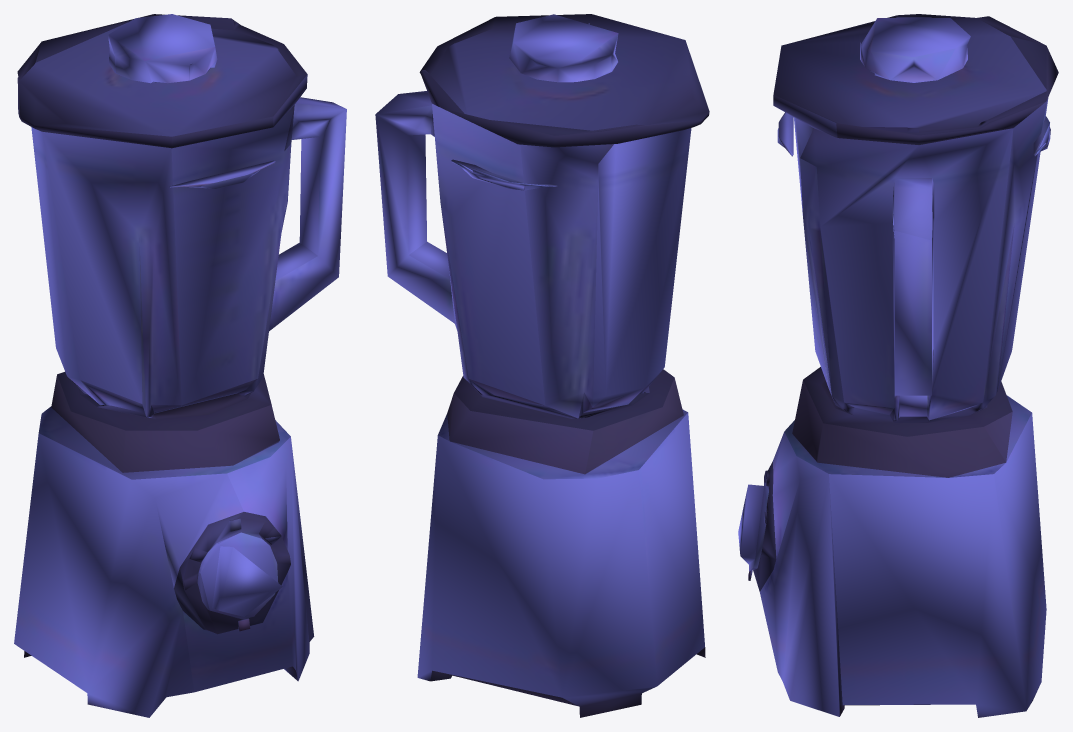
The model's file is model.progressive.glb.
The picture shows the model from 3 angles, left to right: view 1: azimuth 30°, elevation 25°; view 2: azimuth 150°, elevation 25°; view 3: azimuth 270°, elevation 25°; orthographic projection.
Visible parts, largest first — view 1: material; view 2: material; view 3: material.
Boxes of the visible parts, bbox=[...] form: material: bbox=[14, 14, 346, 717]; material: bbox=[375, 14, 709, 717]; material: bbox=[738, 14, 1058, 717].
Bounding box in the file's own units: 1.01 × 1.9 × 0.869.
Materials: 1 (1 with a texture image).
